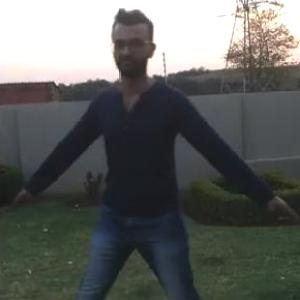land: (35, 27, 263, 299)
